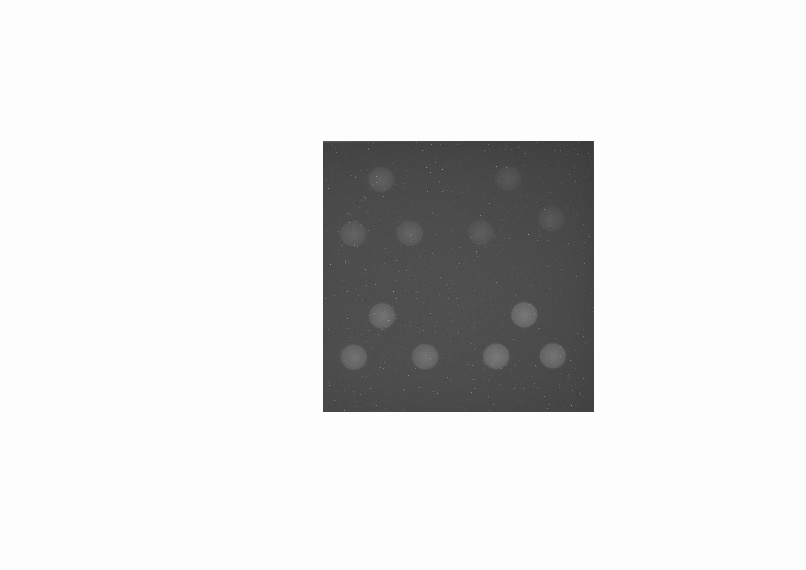cluster: (466, 166, 564, 246), (340, 299, 439, 371), (339, 166, 424, 247), (482, 300, 567, 370)
